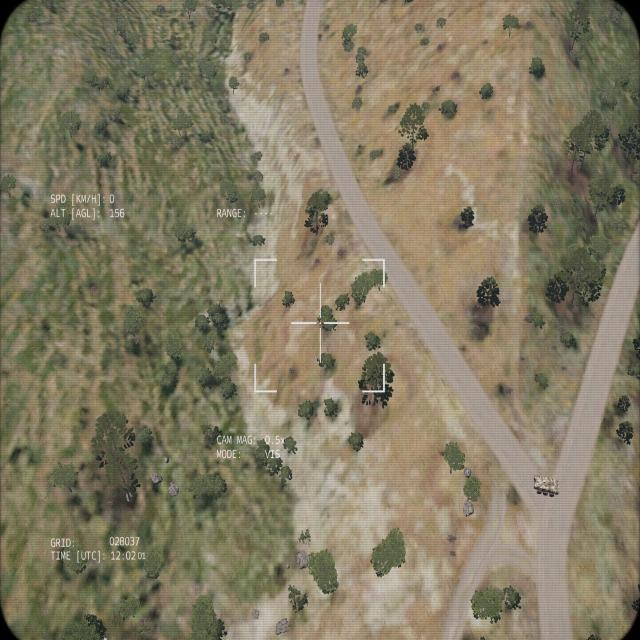apc: (532, 472, 560, 498)
